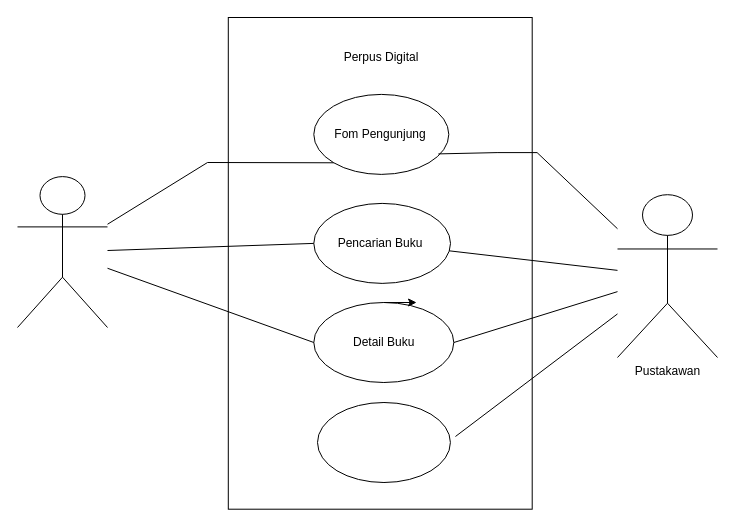
The diagram is 735 pixels wide and 527 high, and some of its shapes have lost their labels. Each missing label, with the centre of its shape:
Actor: [62,252]
Laporan Statistik: [383,442]
